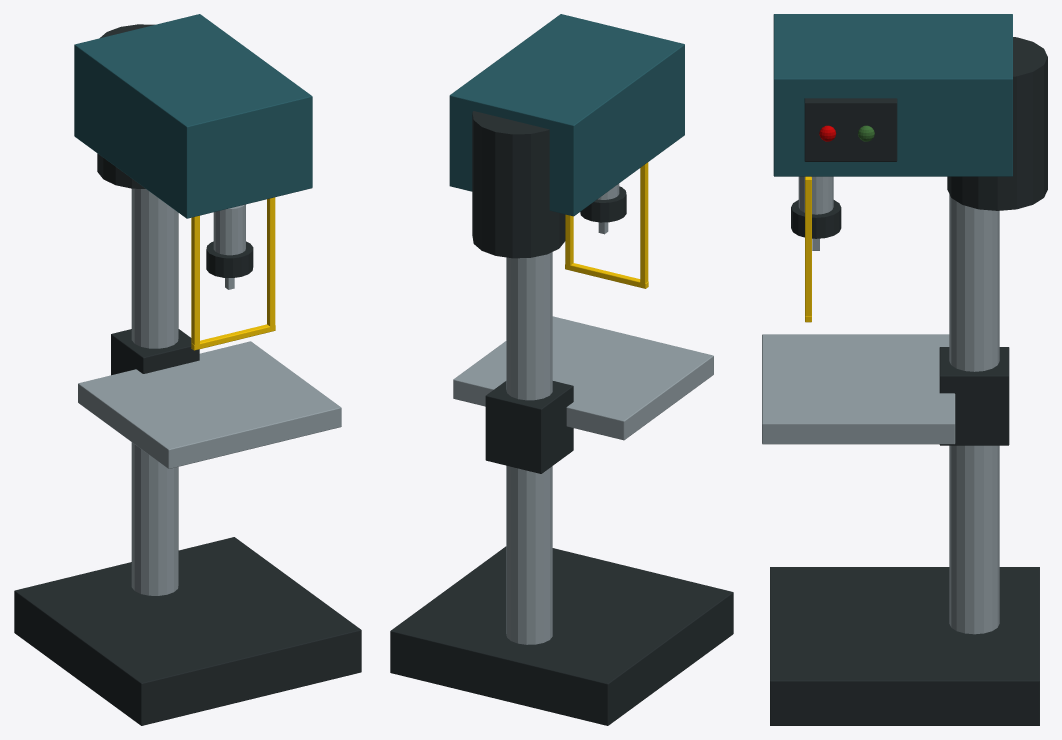
File: industrial-machine.glb
The picture shows the model from 3 angles, left to right: view 1: azimuth 30°, elevation 25°; view 2: azimuth 150°, elevation 25°; view 3: azimuth 270°, elevation 25°; orthographic projection. The views are drawn at different scales.
Visible parts, largest first — view 1: Base, Headstock, Adjustable_Worktable, Column, Column_Collar, Quill, Chuck, Guard_Post, Guard_Post.001, Motor, Guard_Crossbar; view 2: Base, Headstock, Column, Adjustable_Worktable, Motor, Column_Collar, Guard_Post, Chuck, Guard_Crossbar; view 3: Base, Headstock, Adjustable_Worktable, Column, Motor, Control_Panel, Column_Collar, Chuck, Quill, Guard_Post.001.
Part boxes in pixels (<box>): Base: <box>14,537,361,725</box>; Headstock: <box>74,14,312,218</box>; Adjustable_Worktable: <box>78,341,341,468</box>; Column: <box>131,188,178,595</box>; Column_Collar: <box>111,329,199,375</box>; Quill: <box>213,204,245,255</box>; Chuck: <box>206,241,253,277</box>; Guard_Post: <box>191,215,199,346</box>; Guard_Post.001: <box>267,197,275,327</box>; Motor: <box>97,24,154,188</box>; Guard_Crossbar: <box>191,324,275,350</box>; Base: <box>390,546,733,725</box>; Headstock: <box>449,14,684,216</box>; Column: <box>506,252,552,644</box>; Adjustable_Worktable: <box>453,316,713,440</box>; Motor: <box>472,111,565,258</box>; Column_Collar: <box>485,381,573,473</box>; Guard_Post: <box>640,162,648,285</box>; Chuck: <box>580,186,626,222</box>; Guard_Crossbar: <box>565,263,648,288</box>; Base: <box>770,567,1039,725</box>; Headstock: <box>773,14,1012,176</box>; Adjustable_Worktable: <box>762,334,955,444</box>; Column: <box>949,194,999,634</box>; Motor: <box>947,37,1047,210</box>; Control_Panel: <box>804,98,897,161</box>; Column_Collar: <box>939,347,1009,445</box>; Chuck: <box>791,200,841,238</box>; Quill: <box>798,176,833,214</box>; Guard_Post.001: <box>805,176,811,316</box>.
Size of the model in its own units: 0.7 by 1.78 by 0.74.
